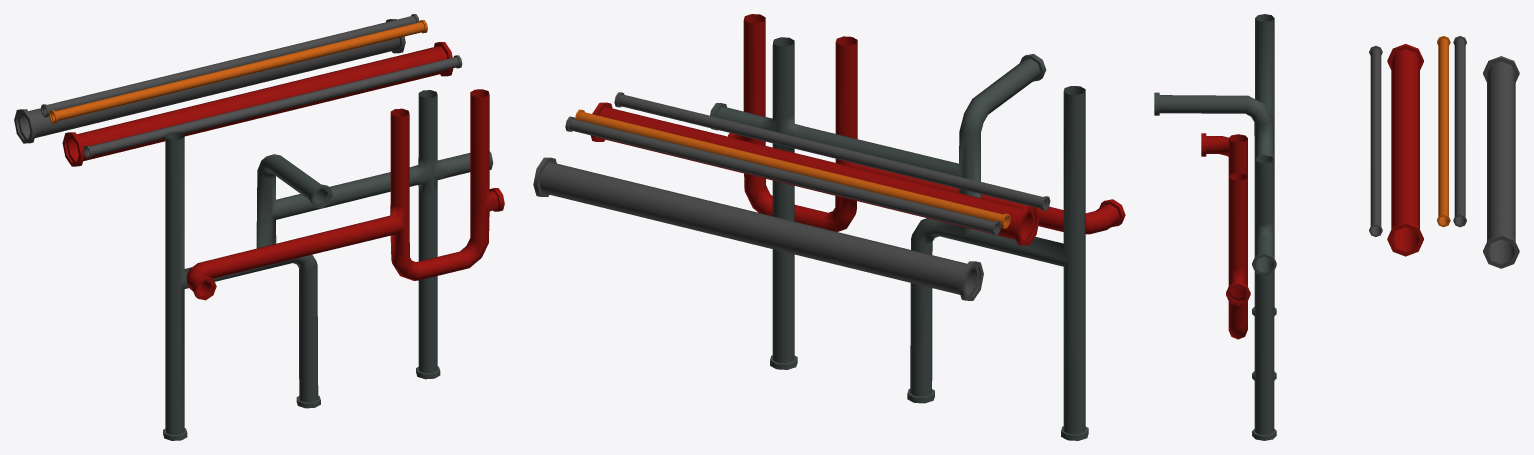
The model's file is SM_H_Building_Tide_Loungehall_22B_ATLAS.fbx.
3 renders of one model, left to right at view 1: azimuth 30°, elevation 25°; view 2: azimuth 150°, elevation 25°; view 3: azimuth 270°, elevation 25°, orthographic. The views are drawn at different scales.
Parts seen in each view (by area): view 1: SM_H_Building_Tide_Loungehall_22B_ATLAS; view 2: SM_H_Building_Tide_Loungehall_22B_ATLAS; view 3: SM_H_Building_Tide_Loungehall_22B_ATLAS.
Boxes of the visible parts, <box> form: SM_H_Building_Tide_Loungehall_22B_ATLAS: <box>14,14,504,440</box>; SM_H_Building_Tide_Loungehall_22B_ATLAS: <box>533,14,1125,440</box>; SM_H_Building_Tide_Loungehall_22B_ATLAS: <box>1154,14,1519,440</box>.
Bounding box in the file's own units: 640 × 549 × 491.
